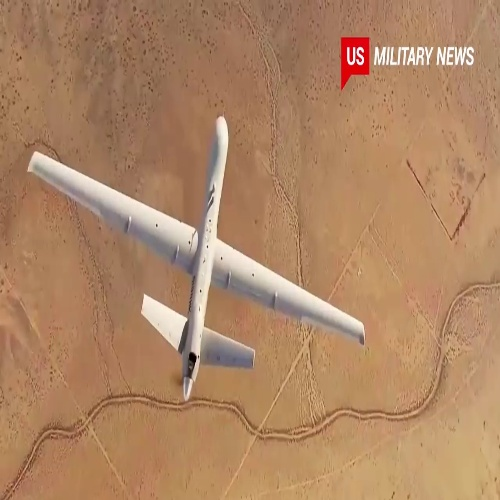uav27: (25, 115, 369, 403)
